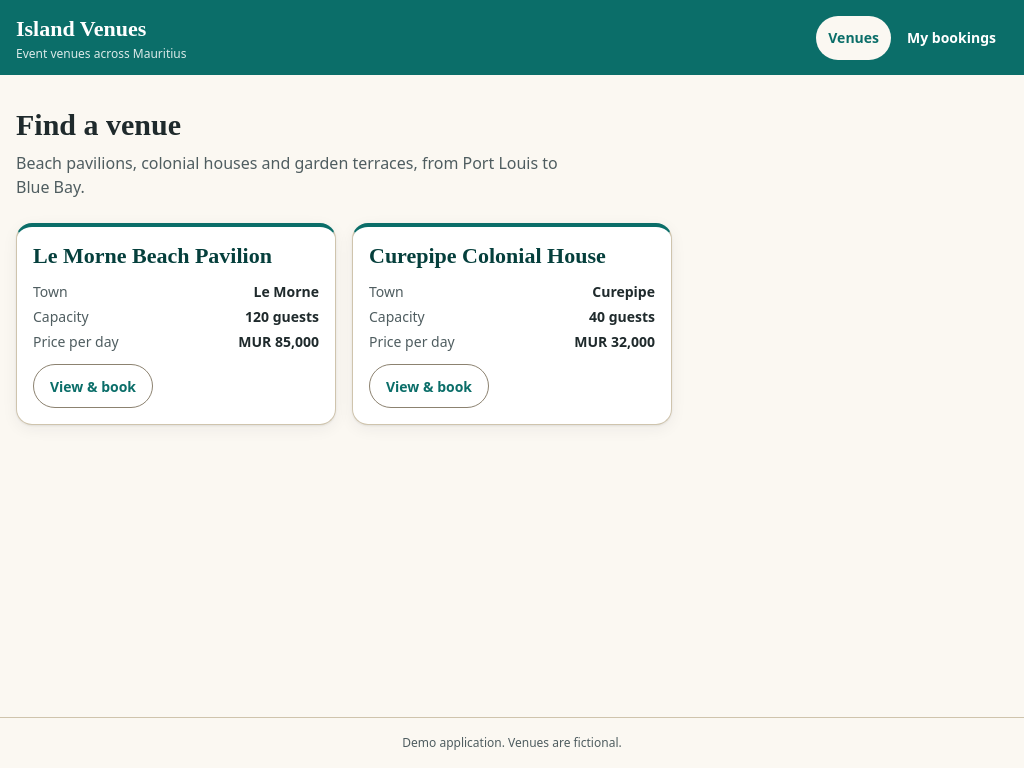
it: App › lists my bookings and cancels a pending one
Step 1. Click the button "My bookings" → (952, 38), box [895,16,1008,60]
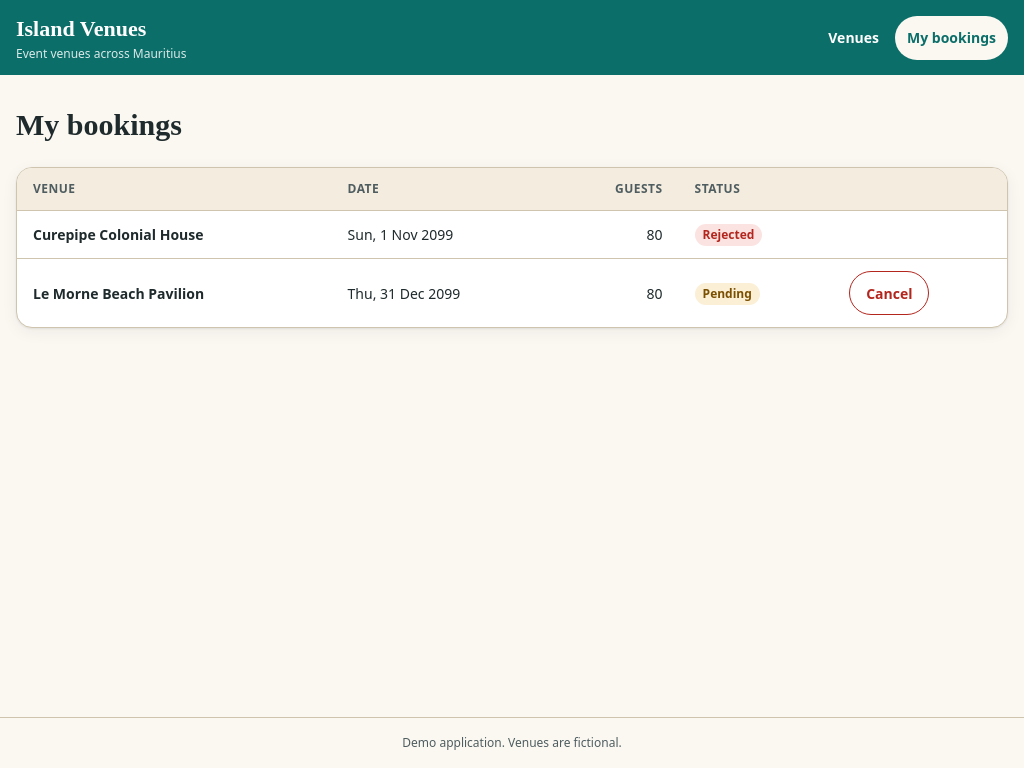
Check: the number of rows is 3, box [17,168,1007,210]; [17,211,1007,258]; [17,258,1007,327]
Check: the row "Curepipe Colonial House Sun, 1 Nov 2099 80 Rejected" is shown, box [17,211,1007,258]
Check: the button "View & book" is gone
Step 2. Click the button with aria-label "Cancel booking for Le Morne Beach Pavilion" → (889, 293), box [849,271,929,315]
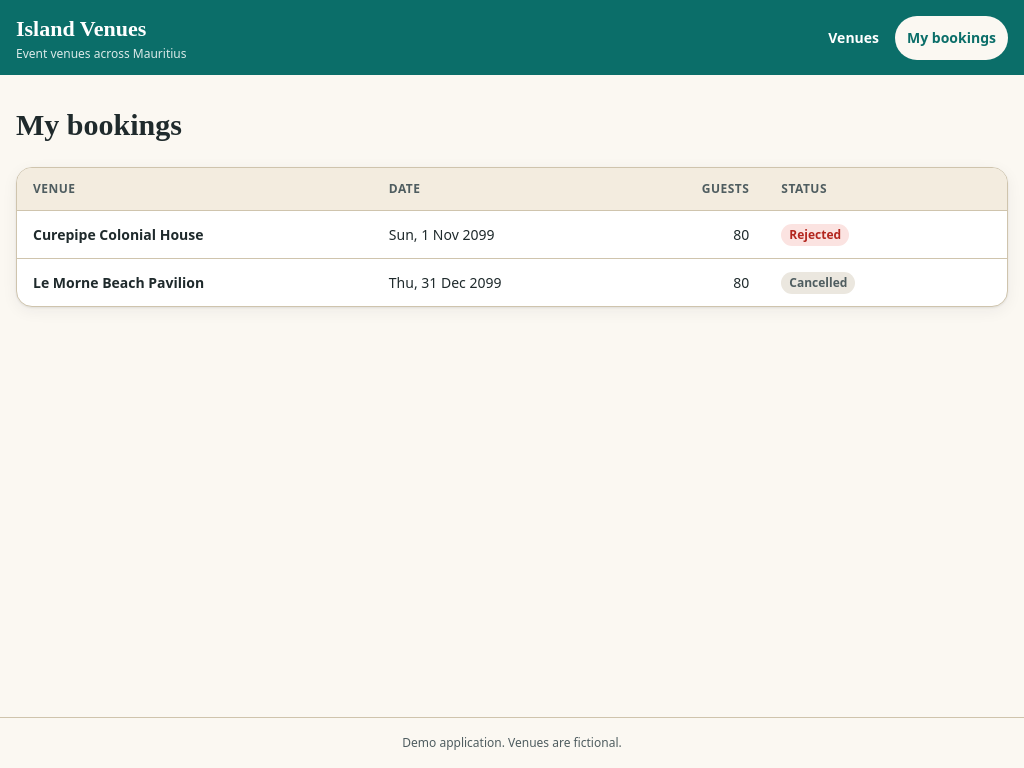
Check: the button "View & book" is not shown
Check: the row "Le Morne Beach Pavilion Thu, 31 Dec 2099 80 Cancelled" is shown, box [17,258,1007,306]
